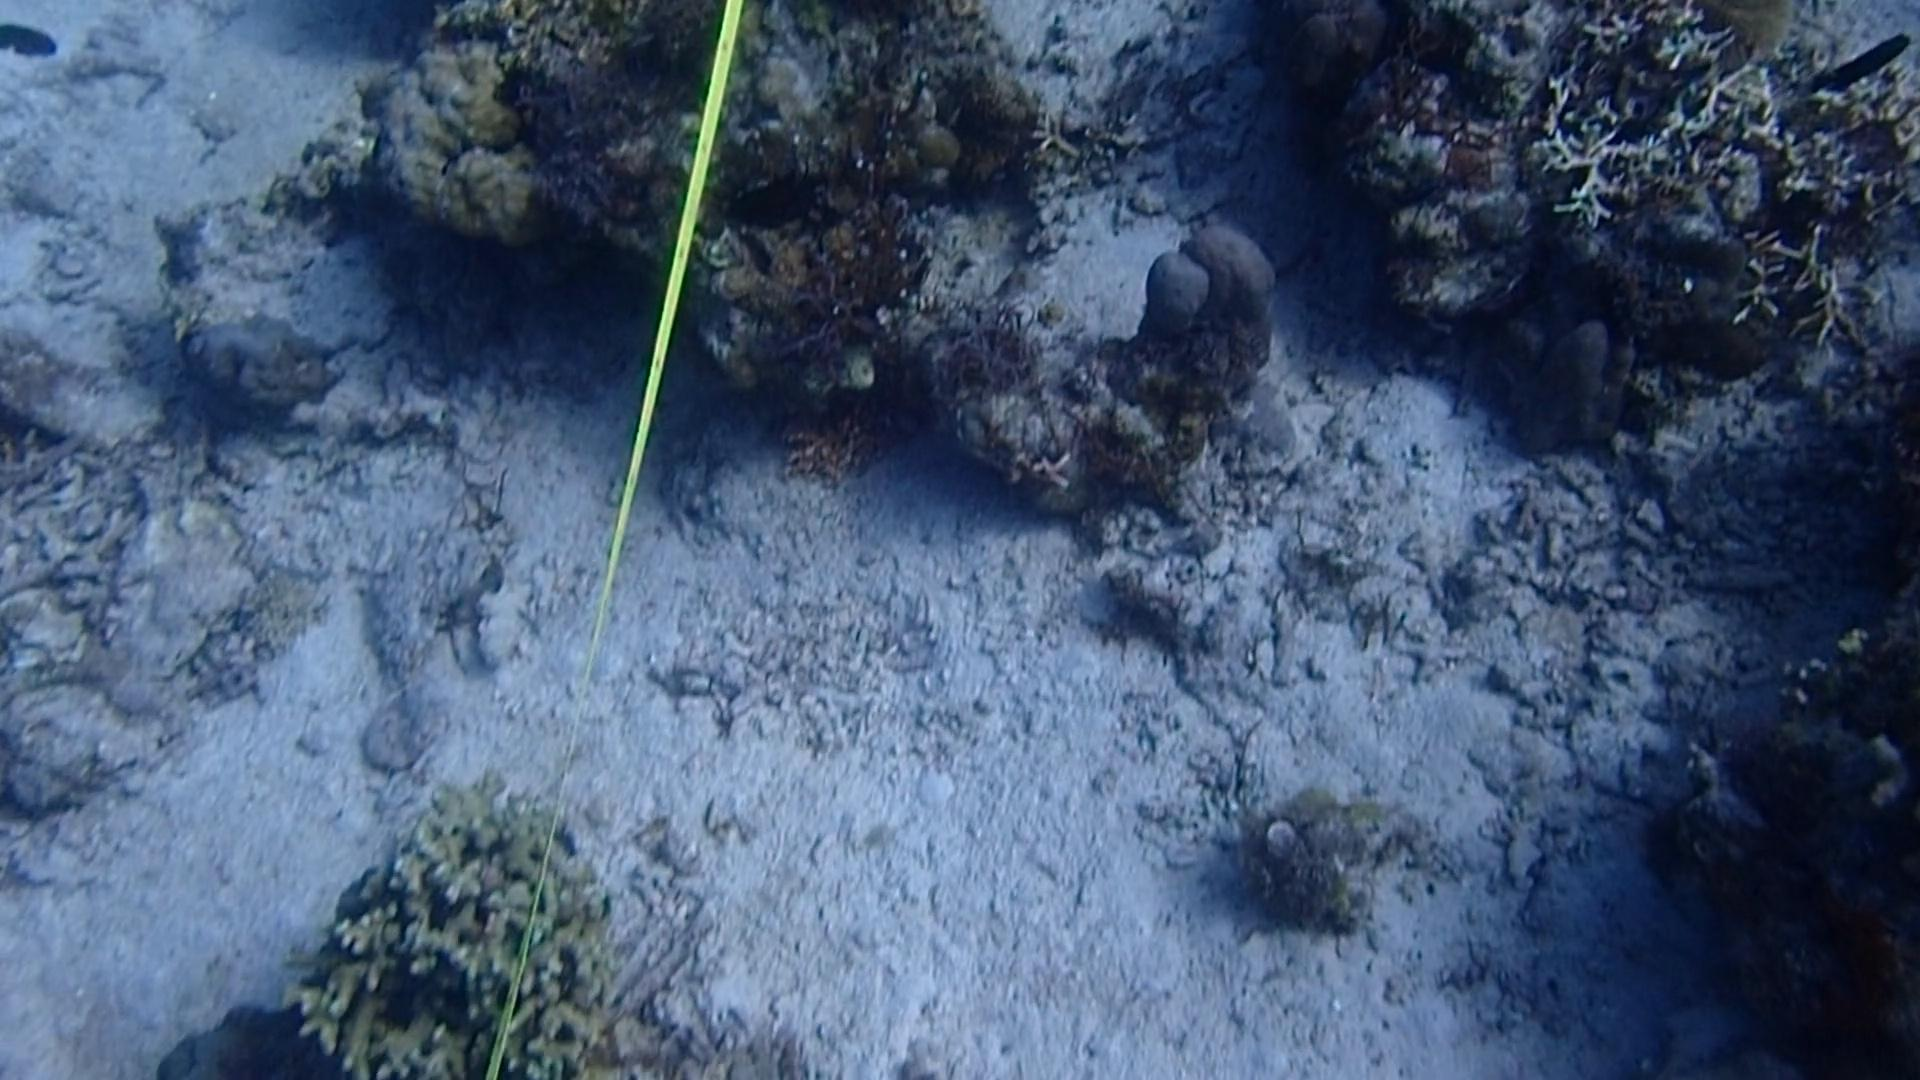Dark Fish: (709, 142, 844, 251), (1808, 25, 1912, 109), (0, 16, 73, 76)
